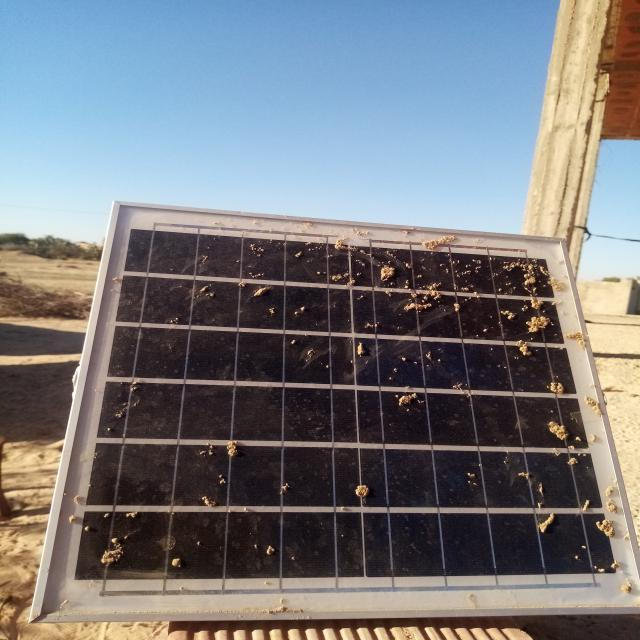faulty: (33, 202, 640, 618)
